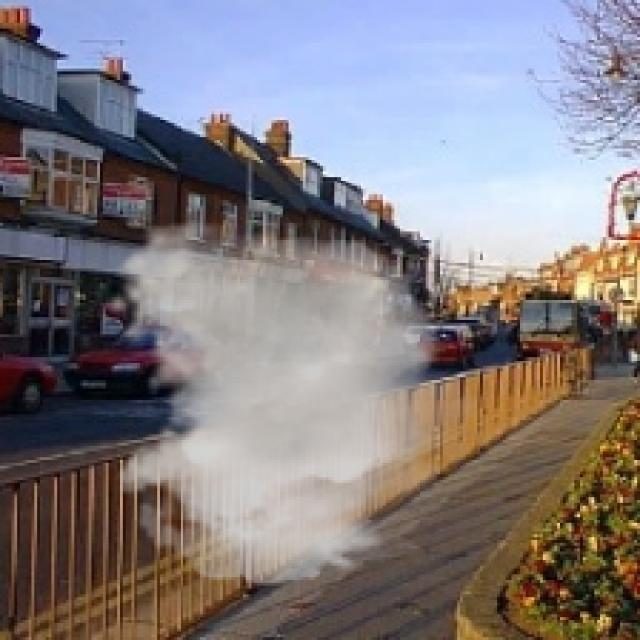smoke: (103, 220, 491, 586)
